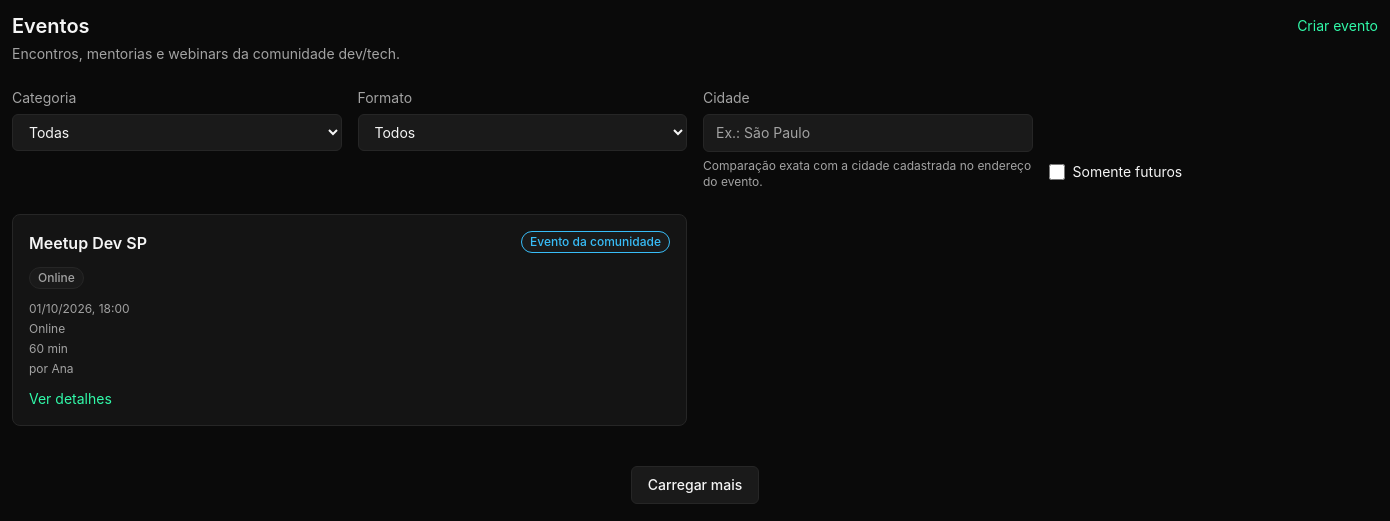
Test: ExploreEventsPage › Carregar mais só aparece com has_next e faz append
Check: the link "Meetup Dev SP" is shown, box [29,233,147,253]
What coordinates should you click on to do the following:
click the button "Carregar mais"
I would click on:
 (695, 485)
Its box is [631,466,759,504].
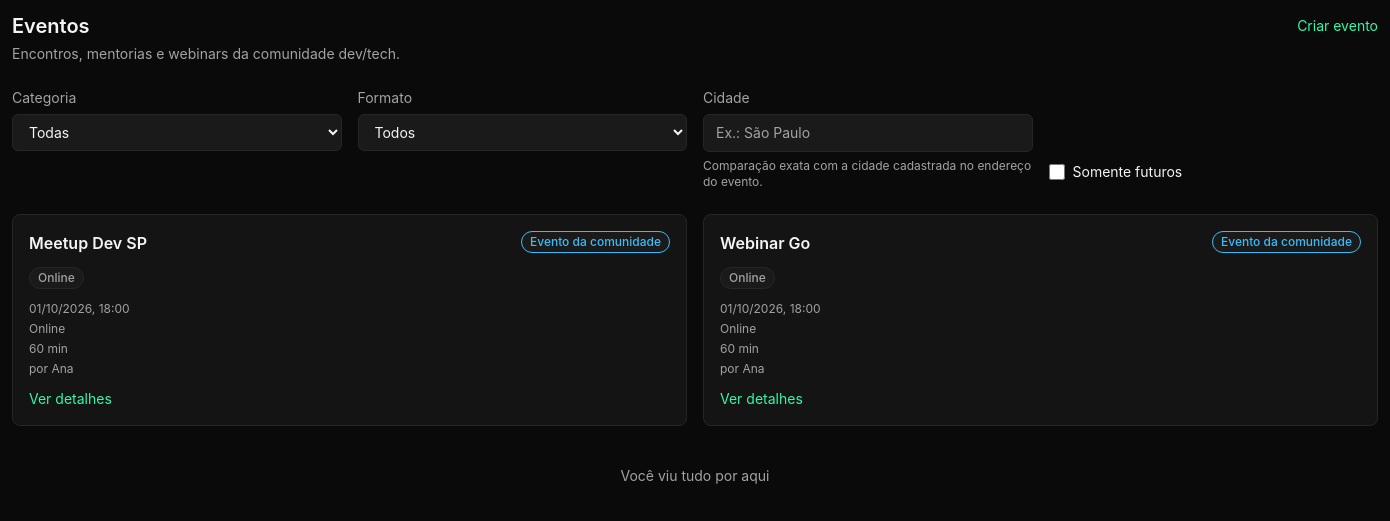
Check: the link "Webinar Go" is shown, box [720,233,810,253]
Check: the button "Carregar mais" is gone
